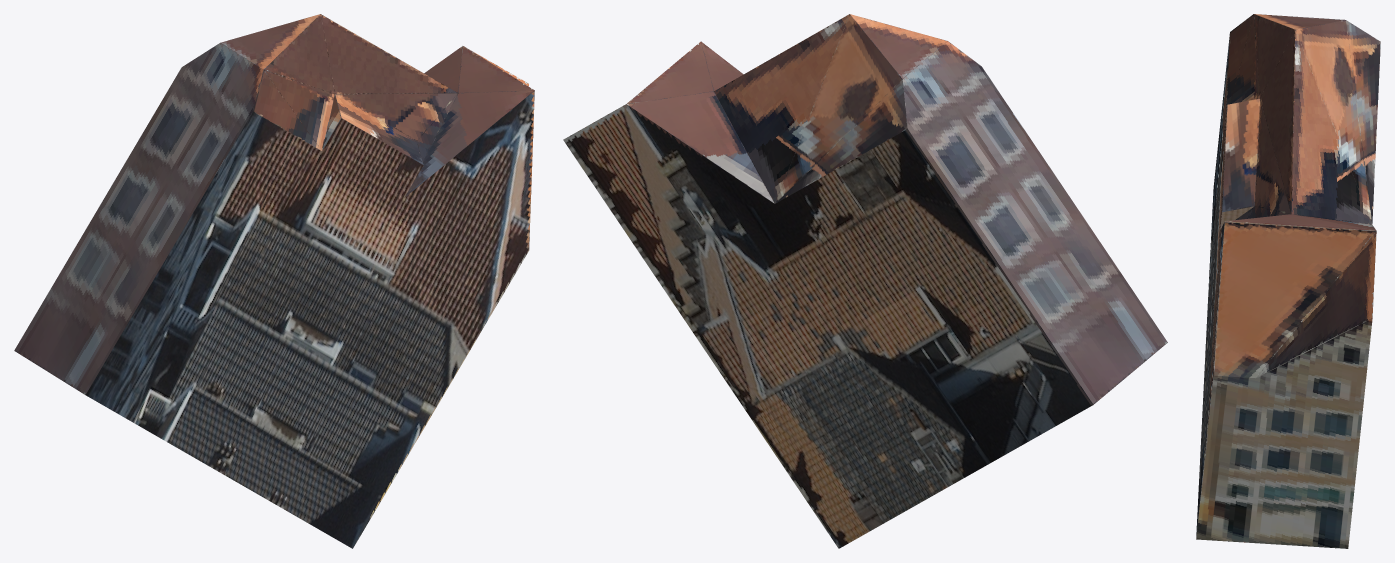
3 views of the same model, side by side, from view 1: azimuth 30°, elevation 25°; view 2: azimuth 150°, elevation 25°; view 3: azimuth 270°, elevation 25° (orthographic). The views are drawn at different scales.
Parts seen in each view (by area): view 1: BAG_0599100000760366 (×5); view 2: BAG_0599100000760366 (×3); view 3: BAG_0599100000760366 (×5).
Part boxes in pixels (x1,y1,x2,y2): BAG_0599100000760366 (×5): [14, 14, 534, 548]; BAG_0599100000760366 (×3): [563, 14, 1167, 548]; BAG_0599100000760366 (×5): [1196, 14, 1380, 548].
Bounding box in the file's own units: 25.28 × 23.47 × 7.46.
Materials: 5 (5 with a texture image).
